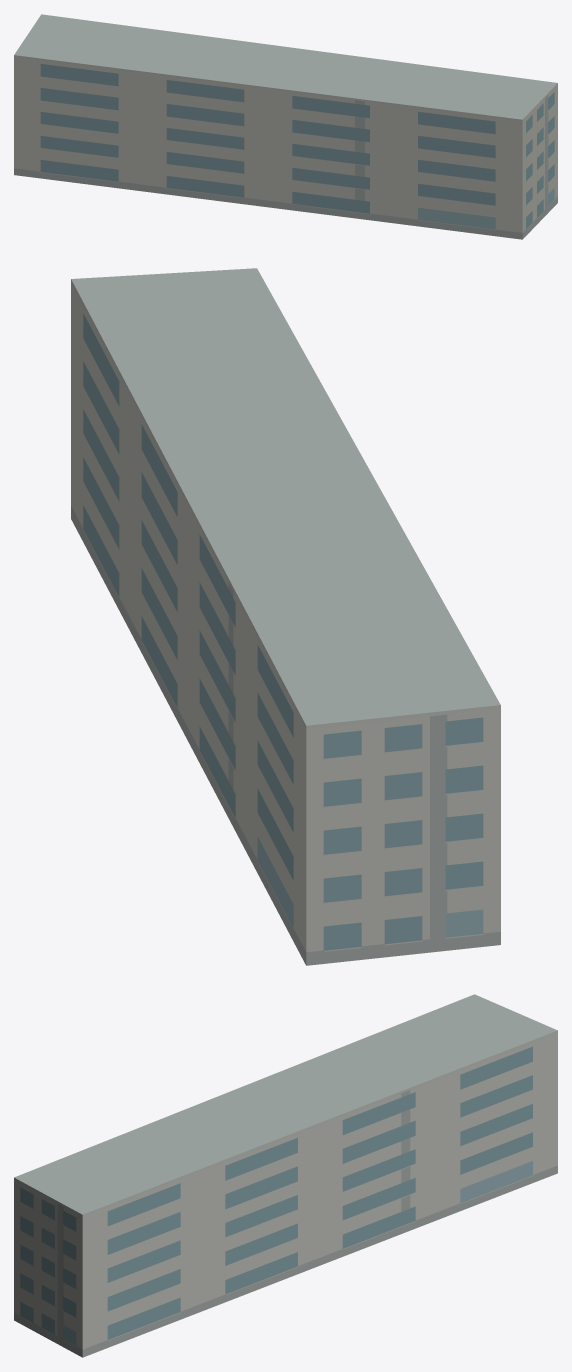
The model's file is residential-07c1801d-dcd1-4839-ac94-b6c86f43f0b1.glb.
The picture shows the model from 3 angles, top to bottom: view 1: azimuth 30°, elevation 25°; view 2: azimuth 150°, elevation 25°; view 3: azimuth 270°, elevation 25°; orthographic projection. The views are drawn at different scales.
Visible parts, largest first — view 1: residential-07c1801d-dcd1-4839-ac94-b6c86f43f0b1.tmp; view 2: residential-07c1801d-dcd1-4839-ac94-b6c86f43f0b1.tmp; view 3: residential-07c1801d-dcd1-4839-ac94-b6c86f43f0b1.tmp.
Part boxes in pixels (x1=…): residential-07c1801d-dcd1-4839-ac94-b6c86f43f0b1.tmp: x1=14, y1=14, x2=557, y2=239; residential-07c1801d-dcd1-4839-ac94-b6c86f43f0b1.tmp: x1=71, y1=268, x2=500, y2=965; residential-07c1801d-dcd1-4839-ac94-b6c86f43f0b1.tmp: x1=14, y1=994, x2=557, y2=1357.
Bounding box in the file's own units: 50.47 × 15.25 × 52.61.
